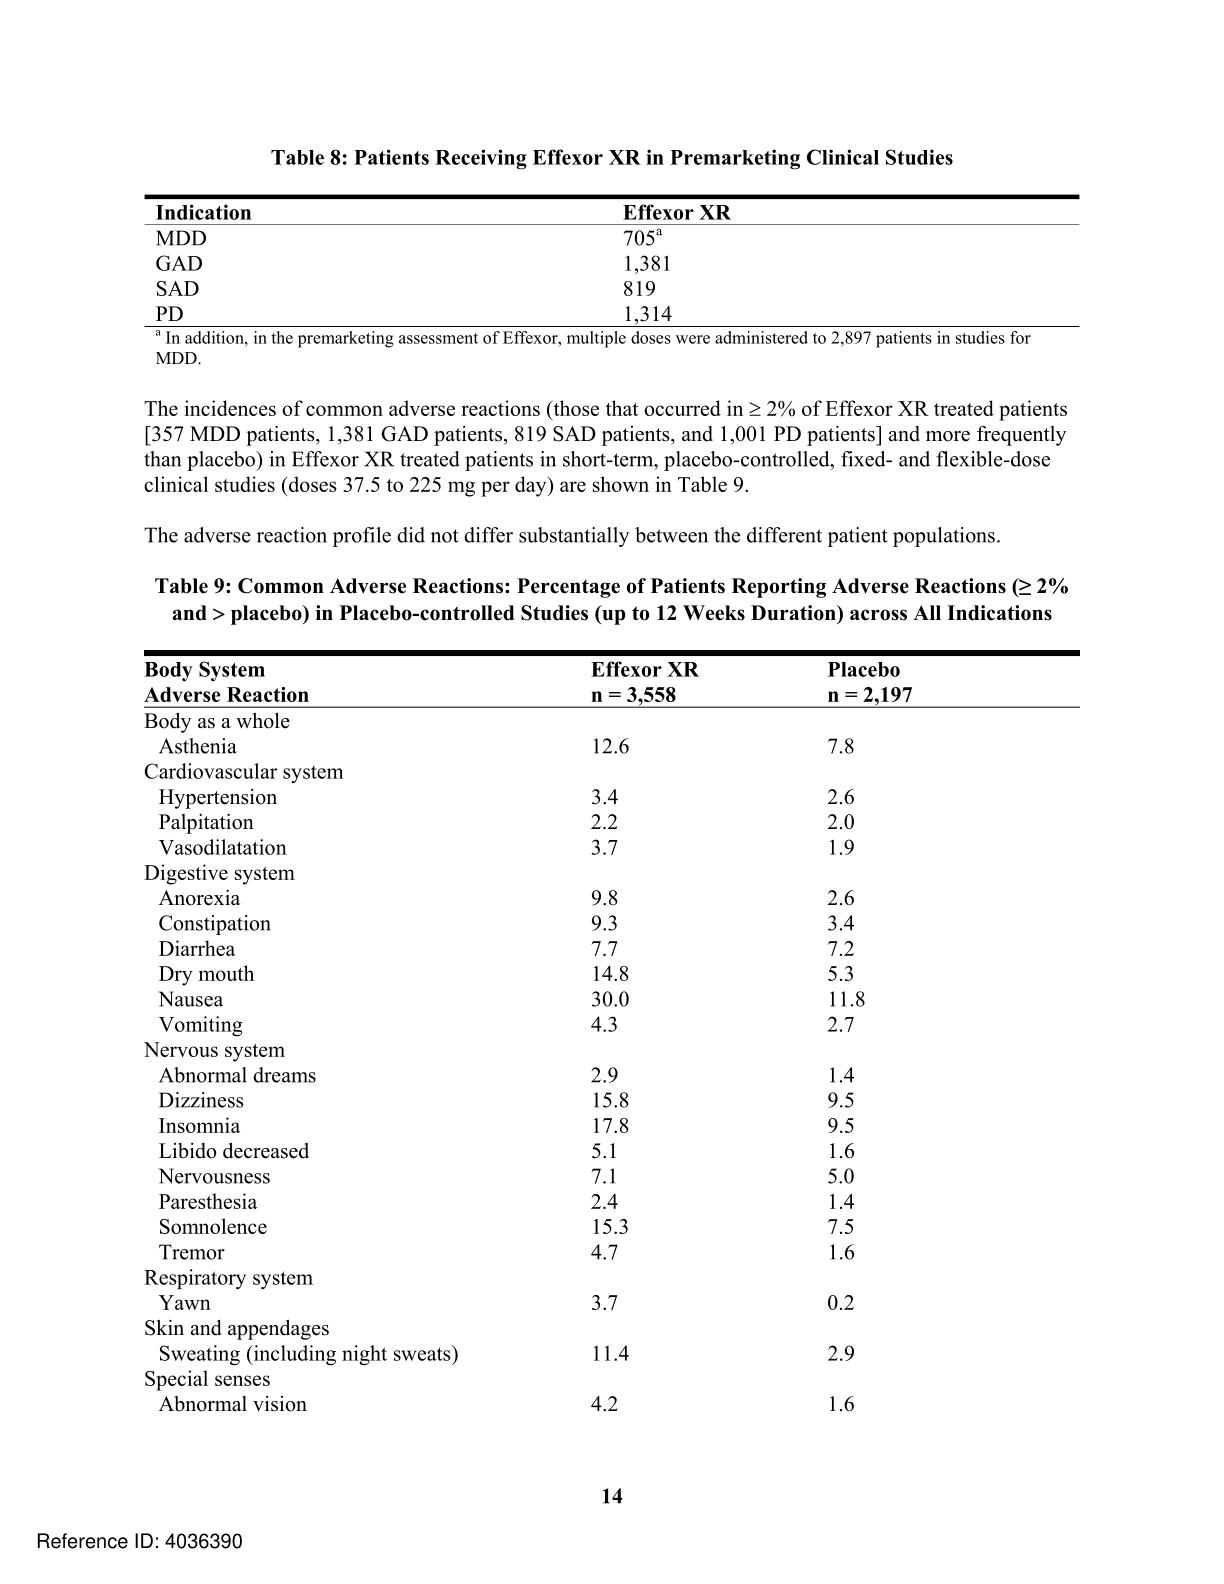partial_lined: (141, 645, 1085, 1428), (141, 189, 1083, 328)
